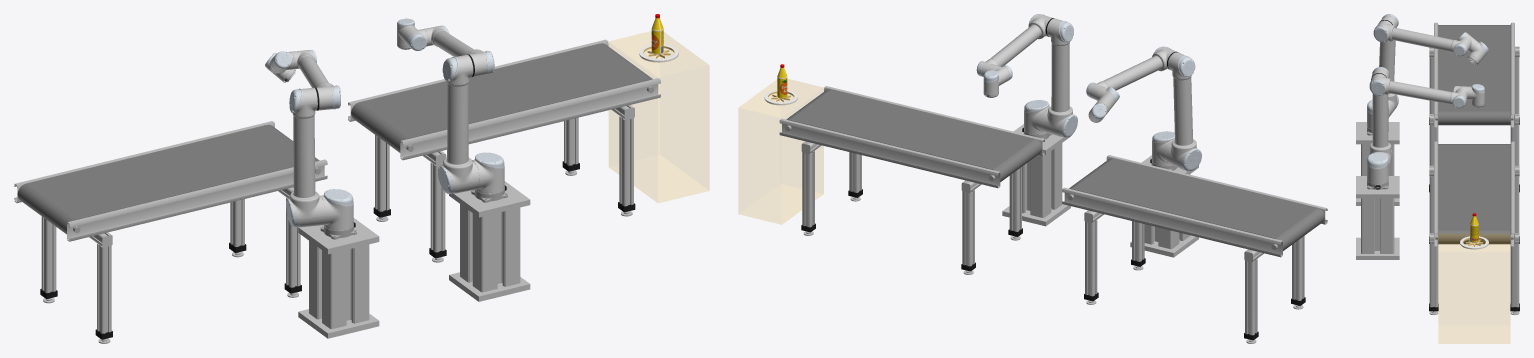
3 renders of one model, left to right at view 1: azimuth 30°, elevation 25°; view 2: azimuth 150°, elevation 25°; view 3: azimuth 270°, elevation 25°, orthographic. The views are drawn at different scales.
Parts seen in each view (by area): view 1: Mesh [01Yg], Mesh [01kg], Mesh [00yg], Mesh [00Pg], Mesh [00zg], Mesh [020g], Mesh [001g], Mesh [008g], Mesh [027g], Mesh [003g], Mesh [01Cg], Mesh [00Rg] (+19 smaller); view 2: Mesh [01Yg], Mesh [00yg], Mesh [01kg], Mesh [00Qg], Mesh [010g], Mesh [020g], Mesh [027g], Mesh [008g], Mesh [00gg], Mesh [01Gg], Mesh [00Vg], Mesh [015g] (+15 smaller); view 3: Mesh [01kg], Mesh [00yg], Mesh [01Yg], Mesh [020g], Mesh [01Wg], Mesh [027g], Mesh [00wg], Mesh [02Dg], Mesh [00Eg], Mesh [022g], Mesh [00Rg], Mesh [00Vg] (+27 smaller).
Part boxes in pixels (x1=…): Mesh [01Yg]: x1=26, y1=125, x2=315, y2=219; Mesh [01kg]: x1=609, y1=32, x2=708, y2=202; Mesh [00yg]: x1=360, y1=43, x2=648, y2=138; Mesh [00Pg]: x1=400, y1=78, x2=660, y2=160; Mesh [00zg]: x1=67, y1=159, x2=327, y2=241; Mesh [020g]: x1=460, y1=204, x2=520, y2=292; Mesh [001g]: x1=309, y1=241, x2=369, y2=328; Mesh [008g]: x1=289, y1=113, x2=319, y2=201; Mesh [027g]: x1=443, y1=81, x2=472, y2=168; Mesh [003g]: x1=298, y1=218, x2=379, y2=254; Mesh [01Cg]: x1=97, y1=243, x2=111, y2=333; Mesh [00Rg]: x1=619, y1=116, x2=633, y2=206; Mesh [01Yg]: x1=1072, y1=158, x2=1316, y2=238; Mesh [00yg]: x1=789, y1=89, x2=1034, y2=169; Mesh [01kg]: x1=739, y1=79, x2=823, y2=223; Mesh [00Qg]: x1=779, y1=118, x2=1000, y2=188; Mesh [010g]: x1=1062, y1=187, x2=1282, y2=257; Mesh [020g]: x1=1022, y1=143, x2=1062, y2=217; Mesh [027g]: x1=1048, y1=41, x2=1072, y2=115; Mesh [008g]: x1=1171, y1=76, x2=1196, y2=149; Mesh [00gg]: x1=962, y1=189, x2=974, y2=266; Mesh [01Gg]: x1=1245, y1=258, x2=1257, y2=335; Mesh [00Vg]: x1=802, y1=150, x2=814, y2=227; Mesh [015g]: x1=1085, y1=220, x2=1097, y2=296; Mesh [01kg]: x1=1439, y1=234, x2=1509, y2=343; Mesh [00yg]: x1=1438, y1=144, x2=1510, y2=230; Mesh [01Yg]: x1=1438, y1=25, x2=1510, y2=111; Mesh [020g]: x1=1361, y1=198, x2=1394, y2=253; Mesh [01Wg]: x1=1438, y1=111, x2=1510, y2=125; Mesh [027g]: x1=1369, y1=94, x2=1391, y2=150; Mesh [00wg]: x1=1438, y1=230, x2=1510, y2=244; Mesh [02Dg]: x1=1386, y1=78, x2=1453, y2=104; Mesh [00Eg]: x1=1389, y1=25, x2=1454, y2=52; Mesh [022g]: x1=1356, y1=176, x2=1399, y2=198; Mesh [00Rg]: x1=1429, y1=243, x2=1438, y2=307; Mesh [00Vg]: x1=1510, y1=243, x2=1519, y2=307.
Size of the model in its own units: 3.74 by 1.3 by 1.13.
Materials: 16 (1 with a texture image).
